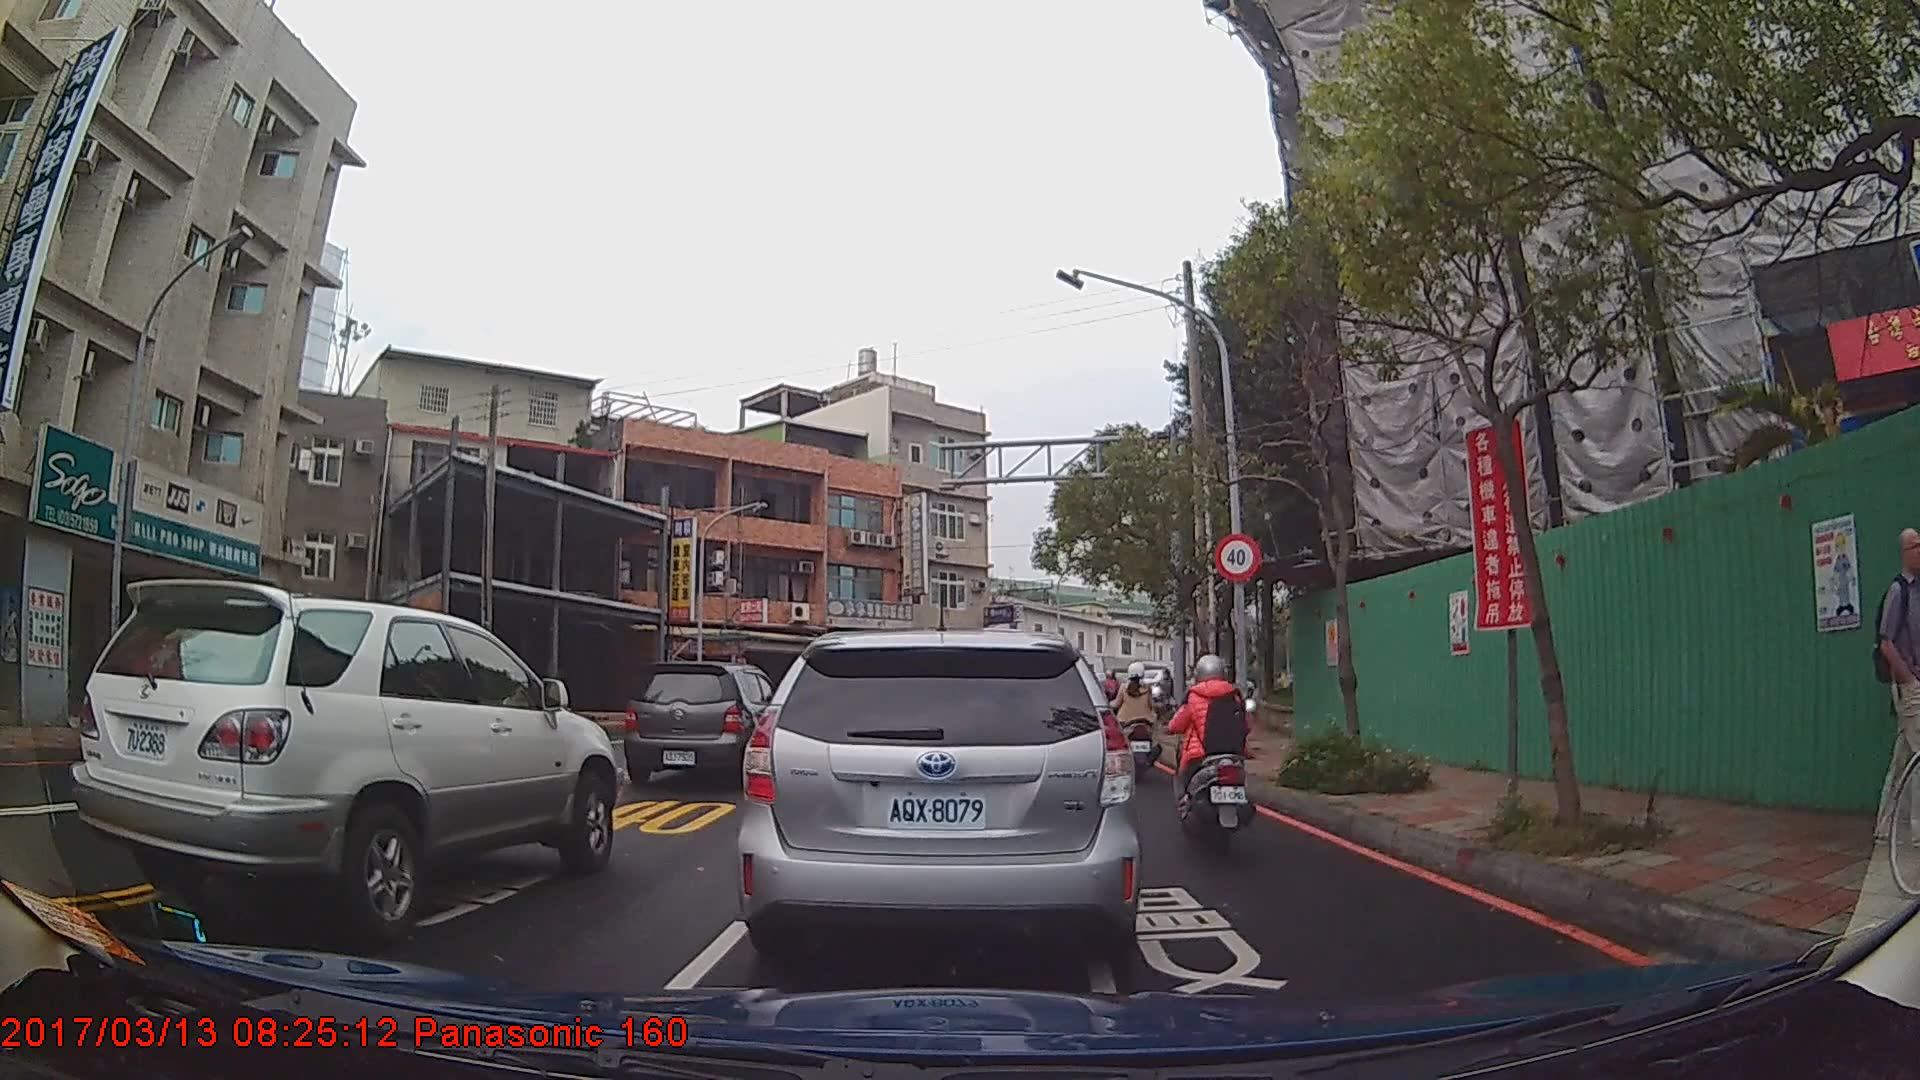pedestrian: (1874, 528, 1920, 848)
rider: (1167, 653, 1259, 854), (1114, 665, 1158, 780), (1097, 669, 1121, 721)
vehicle: (71, 578, 618, 939), (734, 626, 1143, 974), (624, 660, 786, 785)
